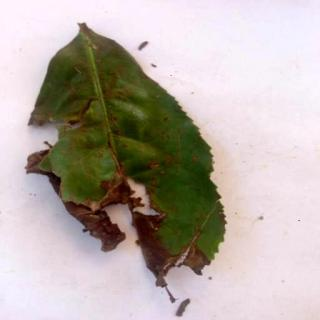Brown Blight: (30, 24, 227, 306)
